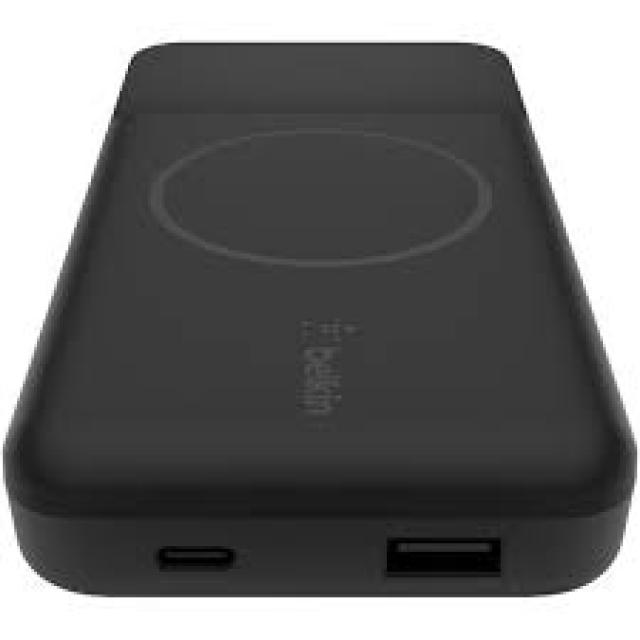portable-charger: (11, 39, 640, 600)
